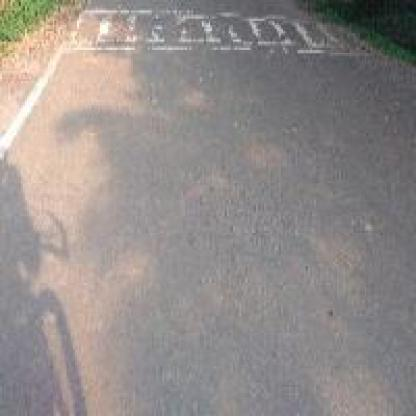Speed Bump: (56, 4, 368, 54)
